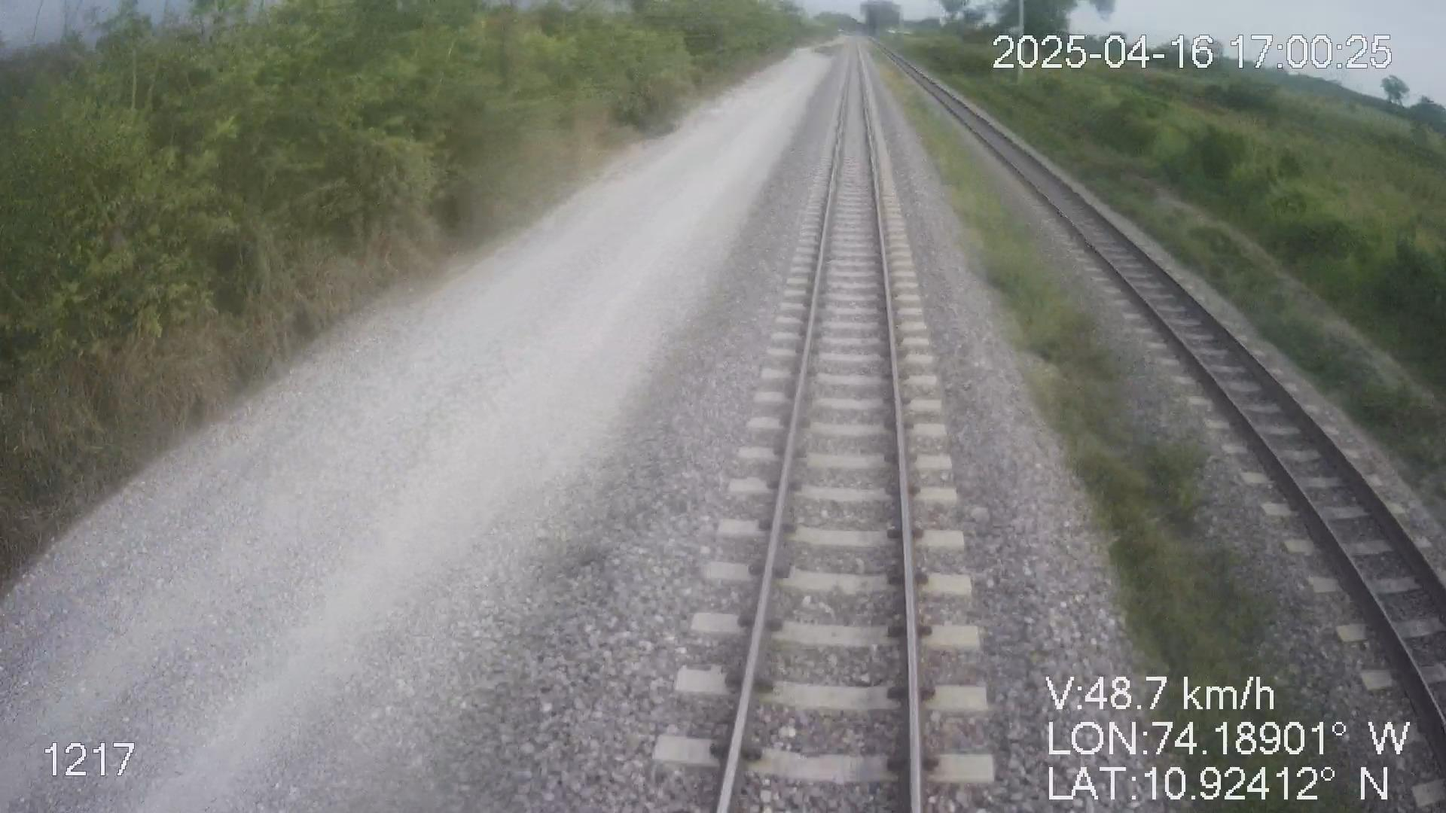Pasto: (0, 0, 821, 590), (889, 17, 1445, 707)
